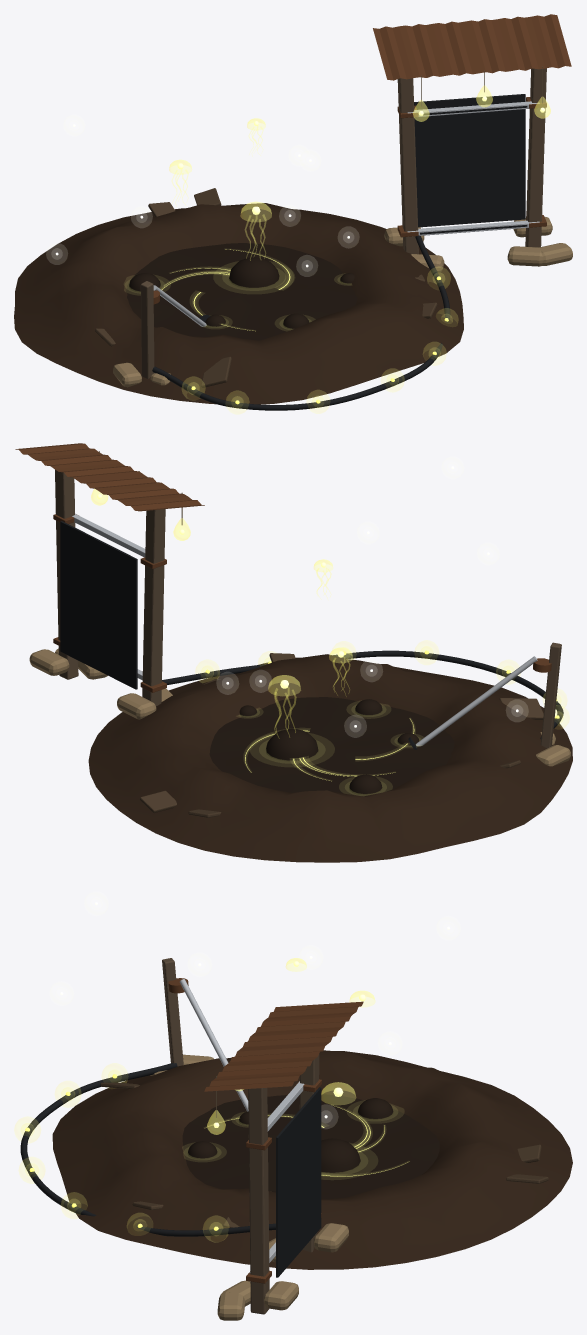
The model's file is mudpit_burbler_rig.glb.
3 views of the same model, one above another, from view 1: azimuth 30°, elevation 25°; view 2: azimuth 150°, elevation 25°; view 3: azimuth 270°, elevation 25° (orthographic). The views are drawn at different scales.
Parts seen in each view (by area): view 1: Burbler_Rim, Burbler_Pool, Burbler_Backplate, Burbler_Roof, Burbler_Post+1, Burbler_Post-1, Burbler_Conduit, Burbler_Bubble_0_Dome, Burbler_Stake, Burbler_Rail0.33, Burbler_Rail1.55, Burbler_PostBag+10 (+4 smaller); view 2: Burbler_Rim, Burbler_Pool, Burbler_Backplate, Burbler_Roof, Burbler_Post-1, Burbler_Conduit, Burbler_Post+1, Burbler_Bubble_0_Dome, Burbler_Stake, Burbler_ProbeRod, Burbler_PostBag+11, Burbler_PostBag-11 (+6 smaller); view 3: Burbler_Rim, Burbler_Pool, Burbler_Roof, Burbler_Backplate, Burbler_Post+1, Burbler_Conduit, Burbler_Stake, Burbler_Bubble_0_Dome, Burbler_PostBag+11, Burbler_PostBag-11, Burbler_ProbeRod, Burbler_PostBag+12 (+3 smaller).
Boxes of the visible parts, x1,y1,x2,y2 form: Burbler_Rim: [14, 203, 463, 404]; Burbler_Pool: [126, 243, 357, 340]; Burbler_Backplate: [414, 94, 525, 227]; Burbler_Roof: [373, 14, 571, 80]; Burbler_Post+1: [525, 68, 546, 247]; Burbler_Post-1: [397, 78, 418, 254]; Burbler_Conduit: [152, 235, 450, 410]; Burbler_Bubble_0_Dome: [228, 257, 279, 289]; Burbler_Stake: [140, 281, 154, 378]; Burbler_Rail0.33: [407, 220, 539, 235]; Burbler_Rail1.55: [407, 101, 539, 116]; Burbler_PostBag+10: [507, 246, 542, 266]; Burbler_Rim: [88, 654, 572, 862]; Burbler_Pool: [209, 697, 454, 796]; Burbler_Backplate: [60, 521, 137, 689]; Burbler_Roof: [15, 443, 204, 511]; Burbler_Post-1: [142, 509, 165, 706]; Burbler_Conduit: [162, 650, 563, 739]; Burbler_Post+1: [55, 469, 78, 679]; Burbler_Bubble_0_Dome: [265, 728, 318, 761]; Burbler_Stake: [540, 642, 561, 748]; Burbler_ProbeRod: [416, 656, 537, 746]; Burbler_PostBag+11: [29, 649, 69, 675]; Burbler_PostBag-11: [117, 693, 156, 719]; Burbler_Rim: [52, 1050, 572, 1269]; Burbler_Pool: [182, 1094, 439, 1199]; Burbler_Roof: [204, 1001, 363, 1091]; Burbler_Backplate: [276, 1087, 321, 1277]; Burbler_Post+1: [248, 1088, 269, 1314]; Burbler_Conduit: [20, 1063, 275, 1236]; Burbler_Stake: [162, 958, 183, 1066]; Burbler_Bubble_0_Dome: [321, 1138, 360, 1174]; Burbler_PostBag+11: [264, 1281, 298, 1310]; Burbler_PostBag-11: [314, 1223, 348, 1252]; Burbler_ProbeRod: [179, 979, 248, 1111]; Burbler_PostBag+12: [217, 1292, 245, 1320].
Bounding box in the file's own units: 5.53 × 2.43 × 4.65.
